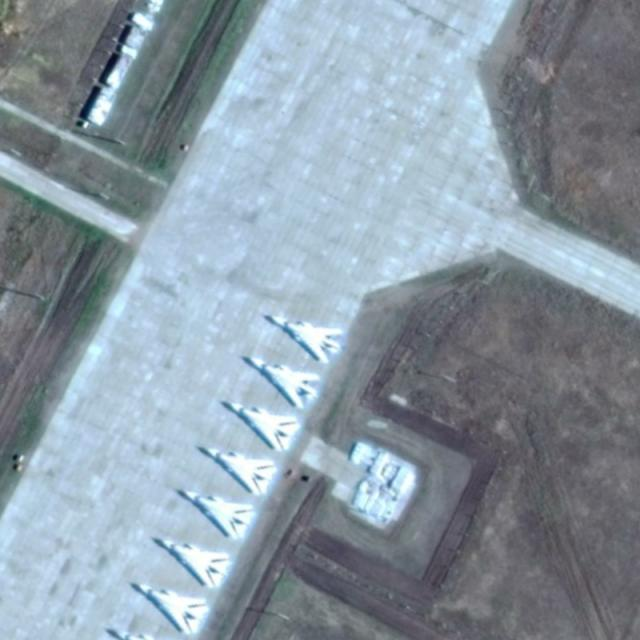fighter jet: (219, 384, 301, 444), (176, 478, 254, 536), (132, 570, 211, 624), (243, 350, 320, 404), (199, 439, 275, 491), (276, 306, 343, 362), (152, 530, 231, 575)
